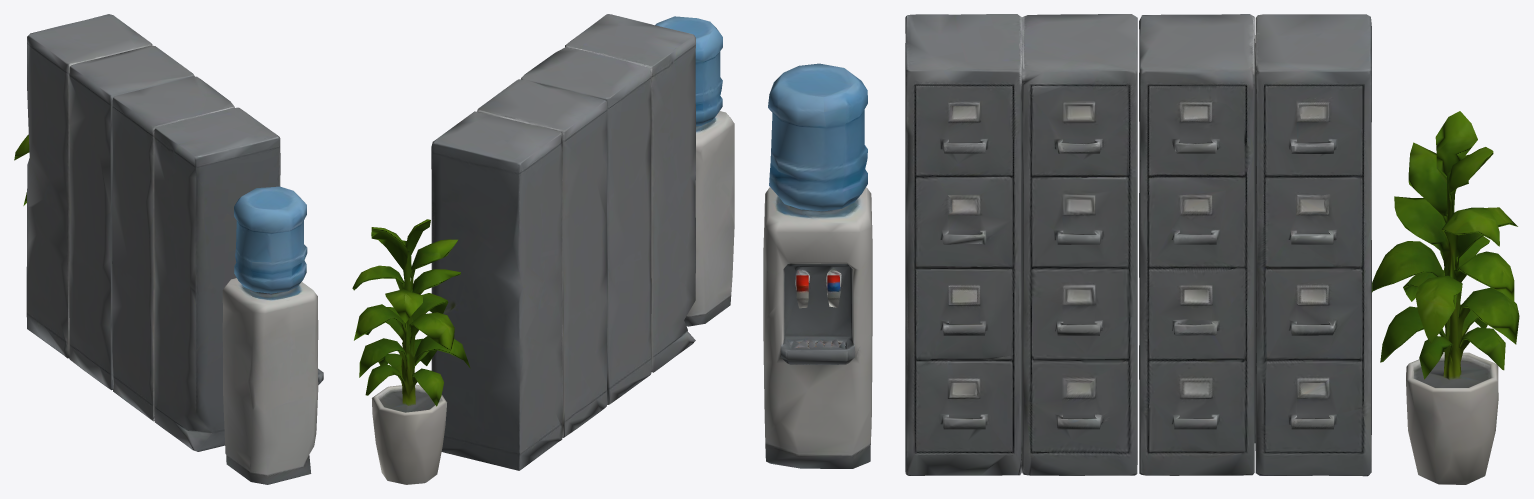
File: prop.glb
3 views of the same model, side by side, from view 1: azimuth 30°, elevation 25°; view 2: azimuth 150°, elevation 25°; view 3: azimuth 270°, elevation 25° (orthographic). The views are drawn at different scales.
Parts seen in each view (by area): view 1: tripo_node_836367bb-bd0b-4be8-a78a-0eeac50de89f; view 2: tripo_node_836367bb-bd0b-4be8-a78a-0eeac50de89f; view 3: tripo_node_836367bb-bd0b-4be8-a78a-0eeac50de89f.
Boxes of the visible parts, x1=… form: tripo_node_836367bb-bd0b-4be8-a78a-0eeac50de89f: x1=14, y1=14, x2=323, y2=484; tripo_node_836367bb-bd0b-4be8-a78a-0eeac50de89f: x1=352, y1=14, x2=734, y2=484; tripo_node_836367bb-bd0b-4be8-a78a-0eeac50de89f: x1=763, y1=14, x2=1519, y2=484.
Size of the model in its own units: 0.2652 by 0.593 by 1.
Materials: 1 (1 with a texture image).
